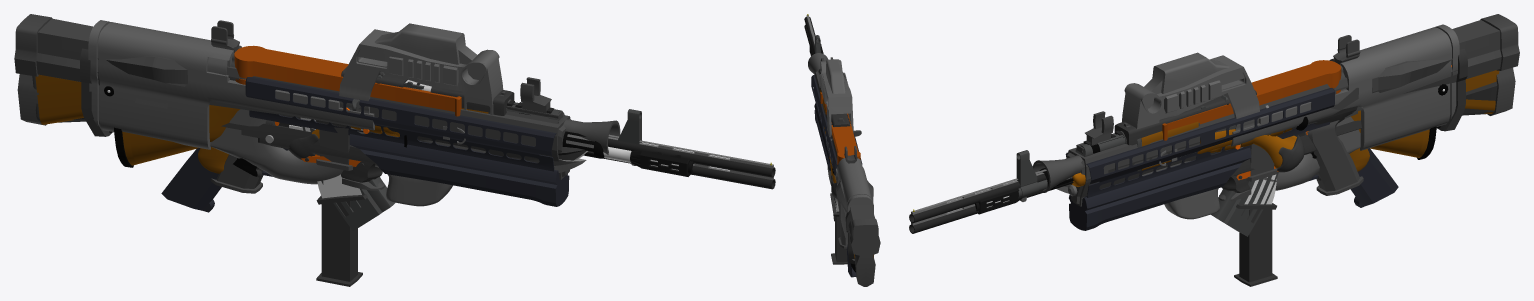
The picture shows the model from 3 angles, left to right: view 1: azimuth 30°, elevation 25°; view 2: azimuth 150°, elevation 25°; view 3: azimuth 270°, elevation 25°; orthographic projection. The views are drawn at different scales.
Parts seen in each view (by area): view 1: FN_P90, Utas_UTS15, AK-47, Weatherby_Orion, Tec_9, Derya_MK12, Glock_17, Flintlock, Kabar_1250; view 2: FN_P90, Utas_UTS15, Tec_9, Derya_MK12, Flintlock, Weatherby_Orion, AK-47, Glock_17; view 3: Utas_UTS15, FN_P90, Tec_9, AK-47, Weatherby_Orion, Flintlock, Derya_MK12, Glock_17.
Boxes of the visible parts, bbox=[...] form: FN_P90: bbox=[88, 20, 503, 206]; Utas_UTS15: bbox=[14, 14, 604, 212]; AK-47: bbox=[32, 53, 641, 230]; Weatherby_Orion: bbox=[114, 105, 775, 189]; Tec_9: bbox=[210, 114, 365, 286]; Derya_MK12: bbox=[80, 48, 693, 204]; Glock_17: bbox=[341, 66, 514, 190]; Flintlock: bbox=[288, 71, 620, 160]; Kabar_1250: bbox=[350, 125, 587, 160]; FN_P90: bbox=[819, 59, 873, 260]; Utas_UTS15: bbox=[811, 57, 880, 286]; Tec_9: bbox=[830, 138, 847, 264]; Derya_MK12: bbox=[809, 44, 854, 264]; Flintlock: bbox=[808, 53, 837, 198]; Weatherby_Orion: bbox=[804, 14, 855, 272]; AK-47: bbox=[815, 35, 873, 258]; Glock_17: bbox=[820, 86, 850, 126]; Utas_UTS15: bbox=[1038, 14, 1519, 230]; FN_P90: bbox=[1122, 24, 1459, 219]; Tec_9: bbox=[1234, 87, 1363, 286]; AK-47: bbox=[1016, 65, 1499, 236]; Weatherby_Orion: bbox=[909, 110, 1436, 233]; Flintlock: bbox=[1032, 129, 1304, 192]; Derya_MK12: bbox=[975, 48, 1467, 214]; Glock_17: bbox=[1114, 90, 1256, 201].
Size of the model in its own units: 0.3262 by 0.1862 by 0.4312.
2 materials, 2 textured.
